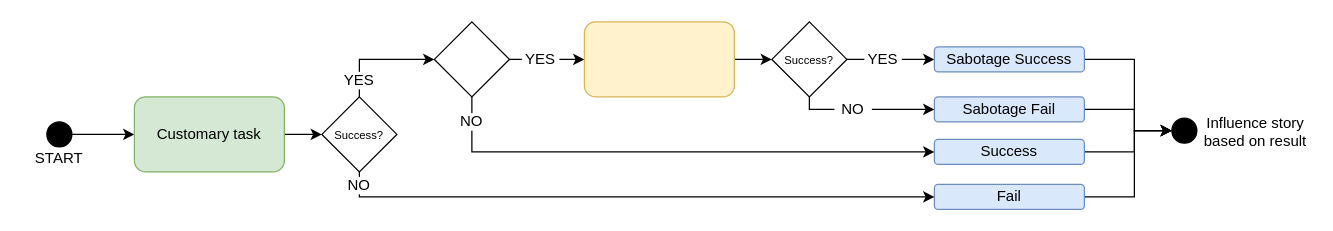
Some shapes in this 1333 by 231 pixel diagram are drawn without their labels. Each missing label, with the centre of its shape:
"Sabotage task" belongs at (x=658, y=59).
"Want to sabotage?" belongs at (x=471, y=59).
